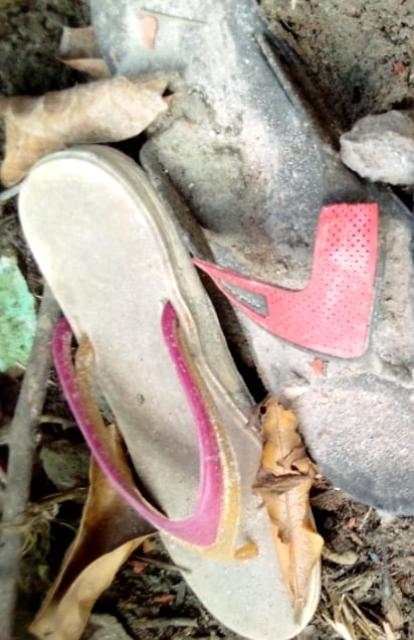sandal: (32, 0, 414, 480), (0, 123, 351, 640)
